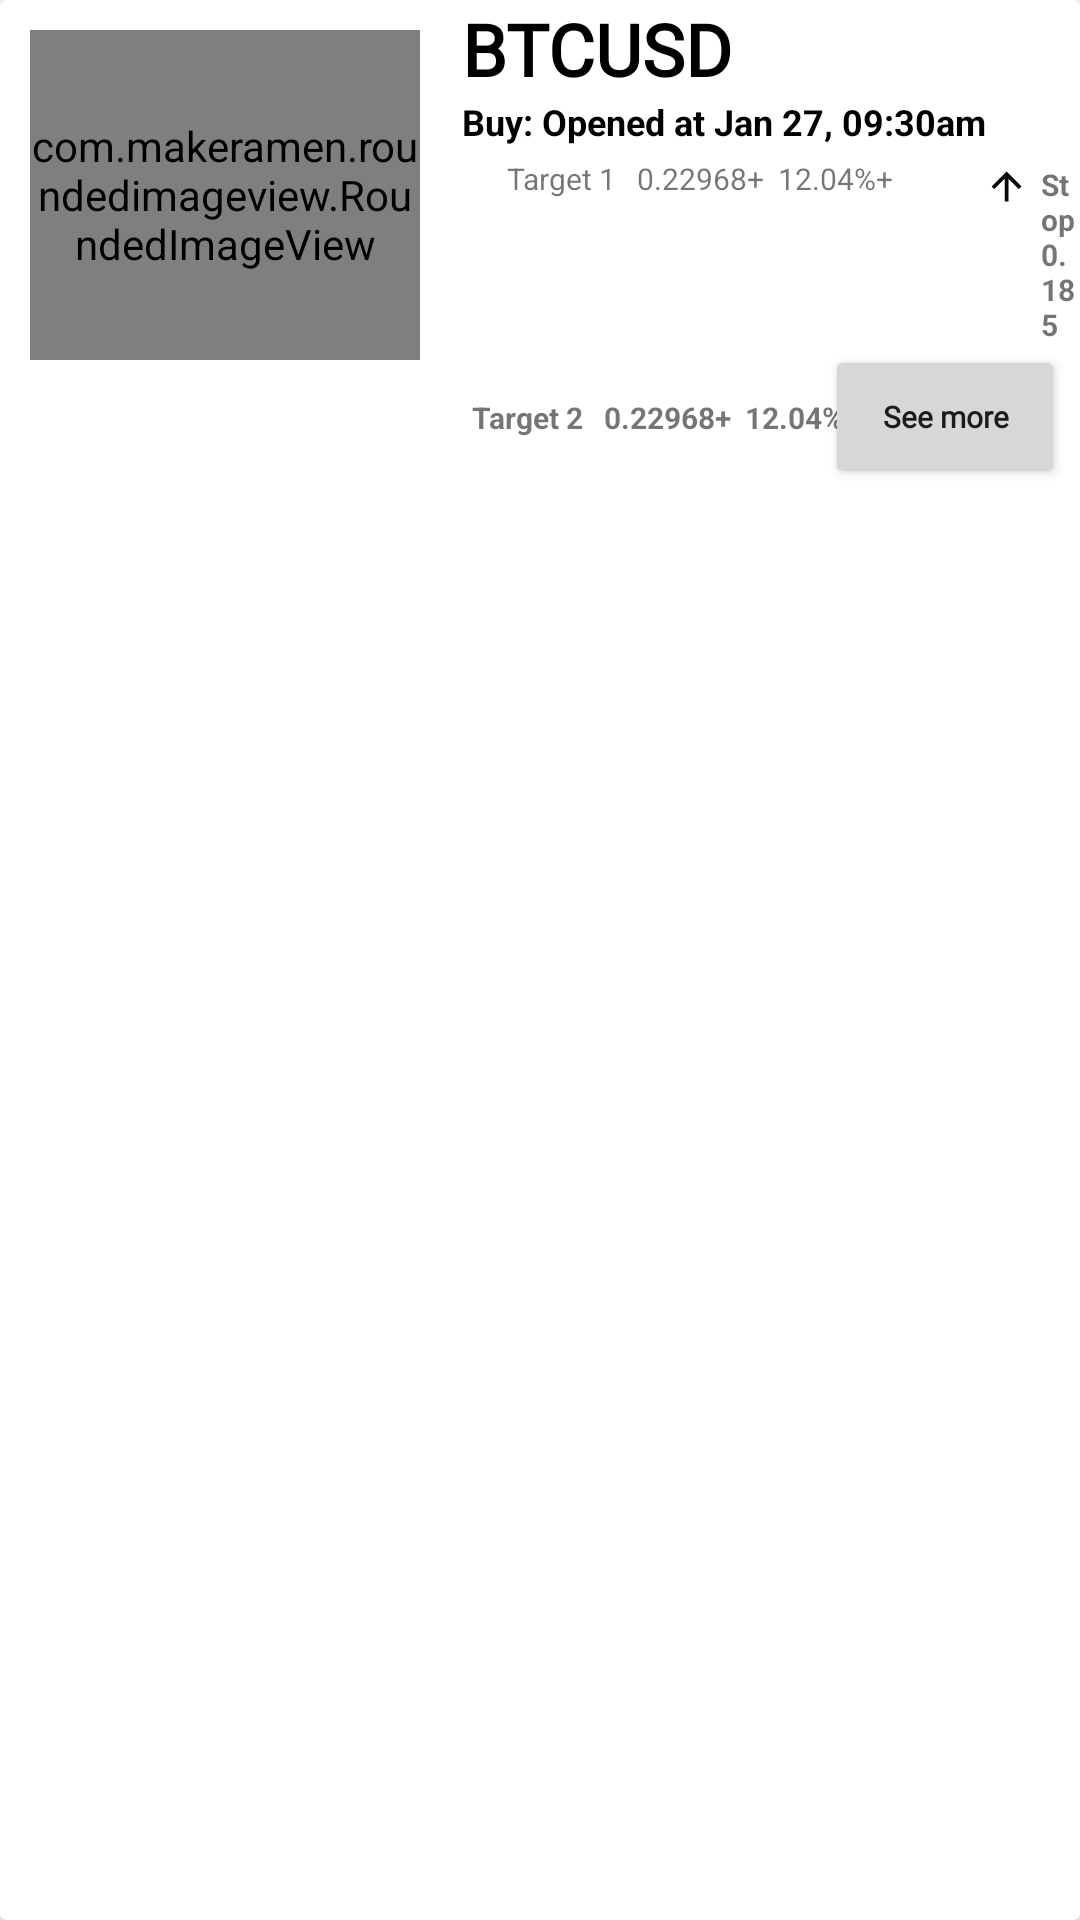

Where to tap for icons on this 1080 × 1920 app screen, as [x,y]:
arrow upward: [1006,186]
